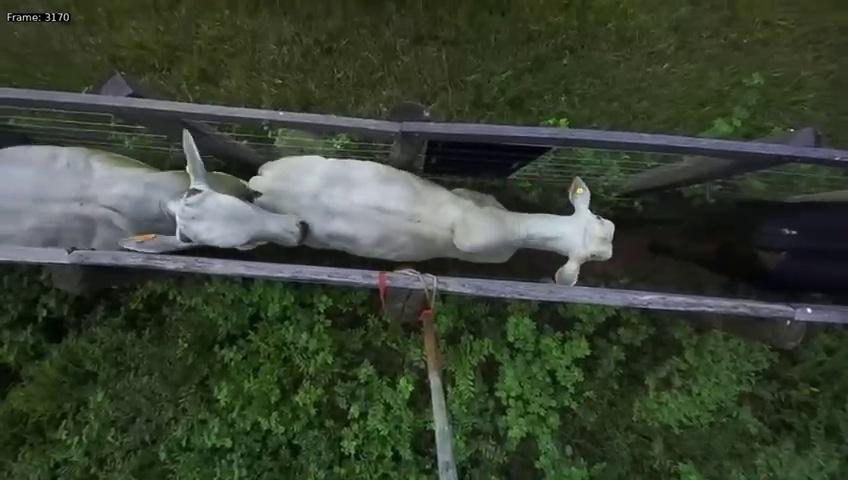cattle: (246, 126, 618, 286), (0, 110, 314, 256)
